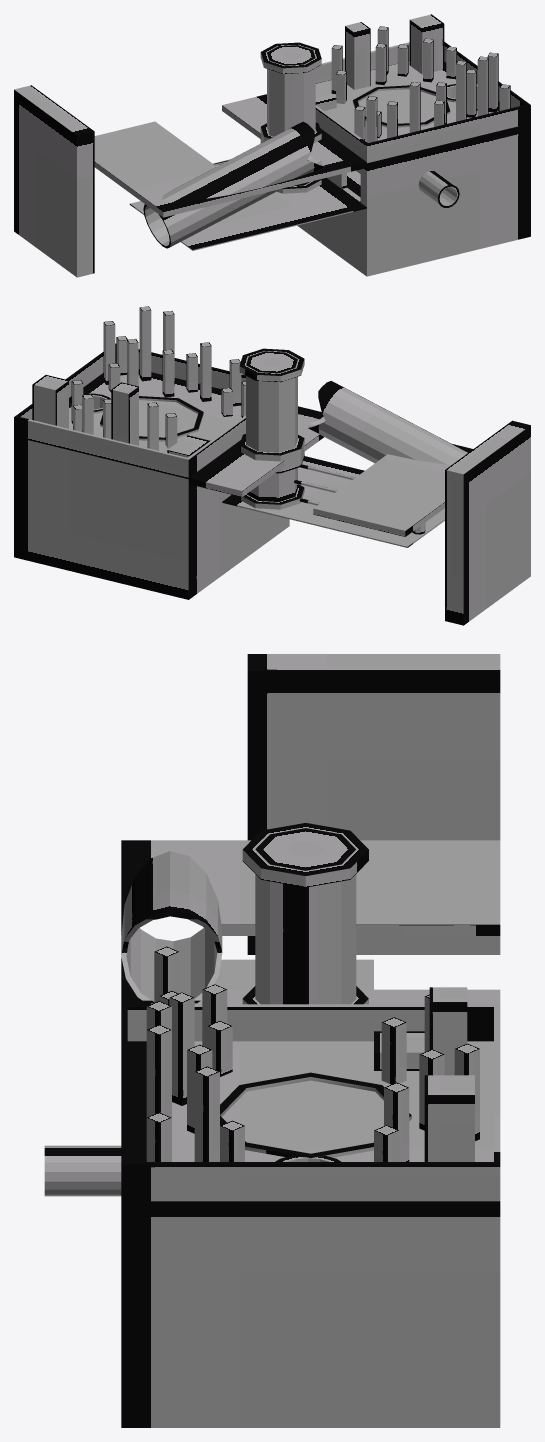
File: playground.gltf
3 renders of one model, top to bottom at view 1: azimuth 30°, elevation 25°; view 2: azimuth 150°, elevation 25°; view 3: azimuth 270°, elevation 25°, orthographic. The views are drawn at different scales.
Parts seen in each view (by area): view 1: playground2; view 2: playground2; view 3: playground2.
Part boxes in pixels (x1,y1,x2,y2): playground2: [14, 14, 530, 277]; playground2: [14, 306, 530, 625]; playground2: [44, 654, 500, 1427].
Bounding box in the file's own units: 386 × 170 × 180.
2 materials, 1 textured.
